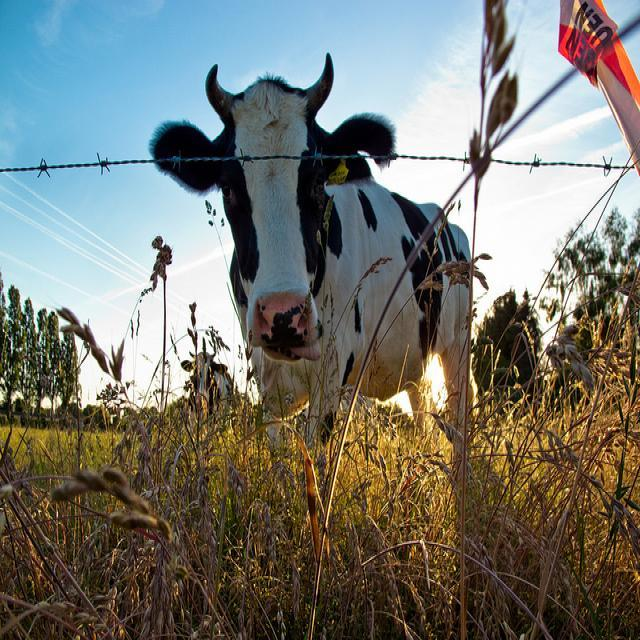cow: (149, 41, 481, 507), (180, 347, 236, 409)
